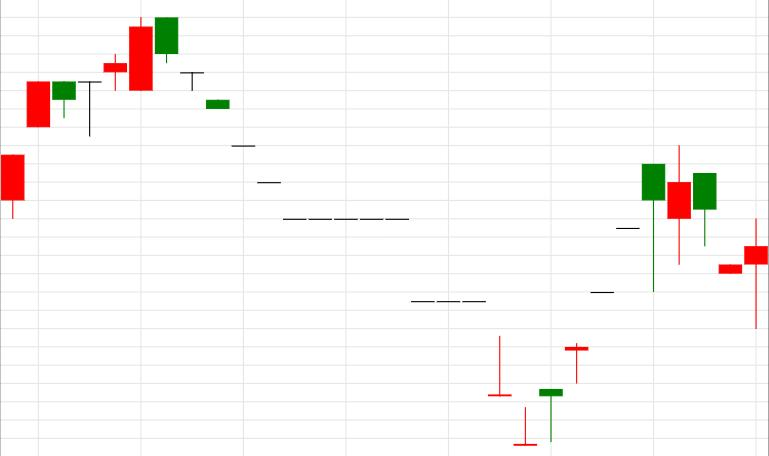hanging_man_fall: (514, 164, 665, 447)
